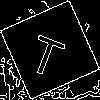T: (25, 25, 70, 79)
